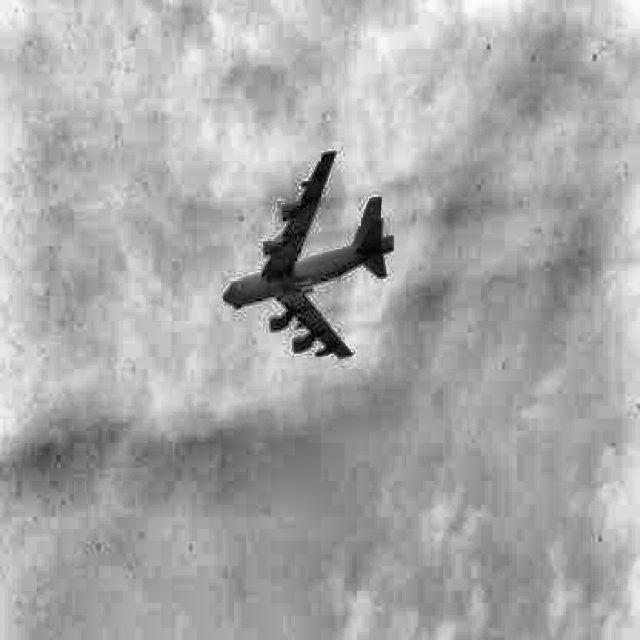B52: (222, 151, 395, 358)
